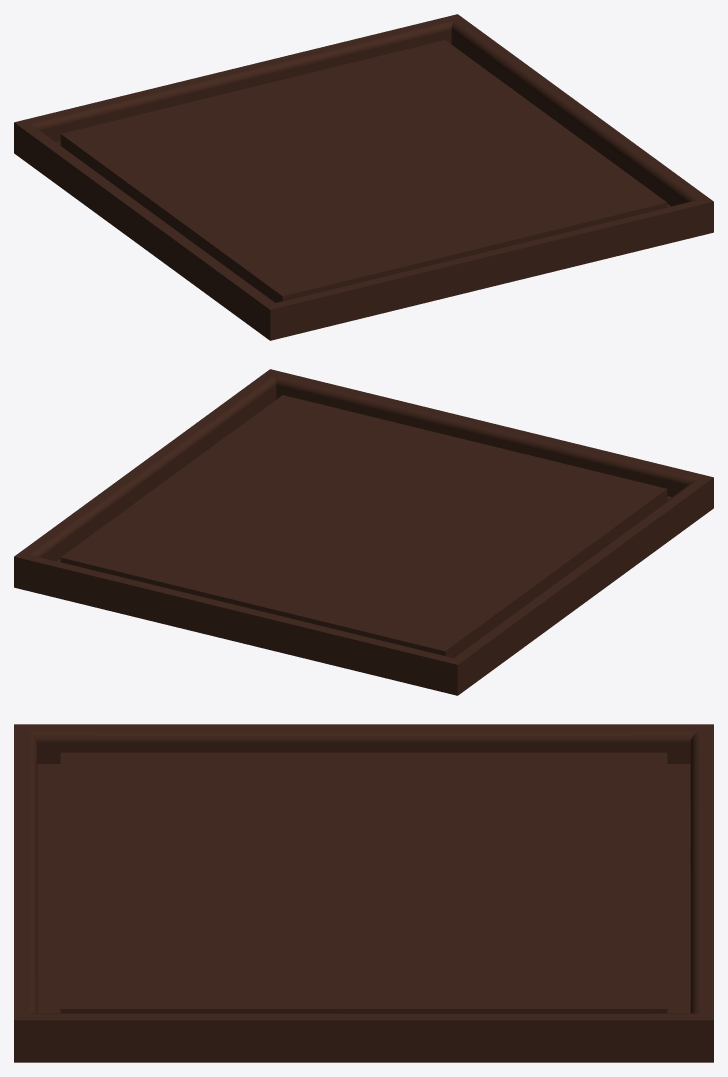
The model's file is ChessBoard.glb.
3 renders of one model, top to bottom at view 1: azimuth 30°, elevation 25°; view 2: azimuth 150°, elevation 25°; view 3: azimuth 270°, elevation 25°, orthographic. The views are drawn at different scales.
Parts seen in each view (by area): view 1: ChessBoard; view 2: ChessBoard; view 3: ChessBoard.
Part boxes in pixels (x1,y1,x2,y2): ChessBoard: (14, 14, 713, 340); ChessBoard: (14, 369, 713, 695); ChessBoard: (14, 724, 713, 1062).
Bounding box in the file's own units: 15 × 1 × 15.
